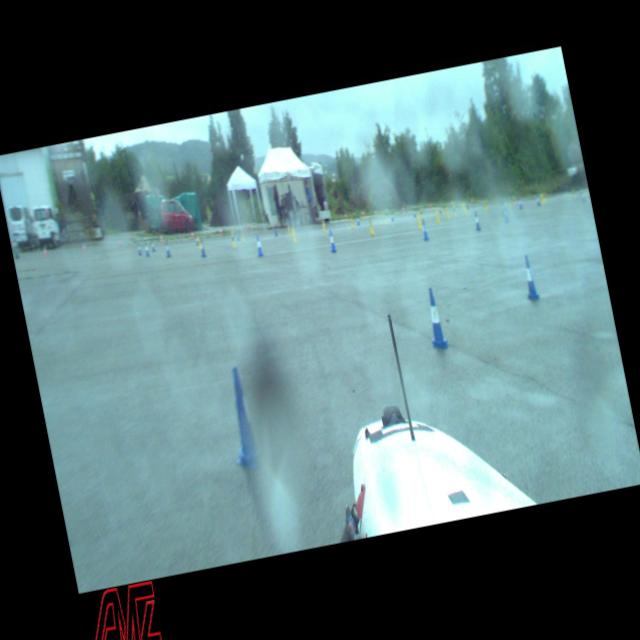Cono de seguridad: (218, 364, 267, 474), (420, 285, 450, 351), (518, 254, 542, 302), (326, 228, 338, 253), (197, 237, 208, 258), (254, 234, 264, 256), (472, 210, 482, 232), (162, 236, 172, 258), (420, 219, 430, 241), (228, 228, 238, 248), (142, 238, 151, 258), (367, 217, 375, 237), (136, 238, 144, 258), (290, 226, 298, 244), (433, 208, 441, 225), (516, 194, 524, 210), (460, 199, 468, 215), (502, 205, 509, 223), (444, 204, 451, 220), (80, 240, 88, 253), (451, 203, 458, 217), (416, 213, 422, 229), (580, 188, 586, 204), (150, 238, 156, 252), (158, 232, 165, 244), (196, 234, 202, 248), (234, 228, 240, 242), (240, 228, 246, 242), (482, 198, 488, 212), (42, 244, 48, 257), (116, 236, 122, 249), (272, 225, 278, 238), (286, 224, 292, 237), (418, 207, 424, 220), (189, 228, 195, 240), (194, 234, 200, 246), (389, 210, 395, 222), (464, 198, 470, 210), (349, 217, 355, 228), (355, 216, 361, 227), (218, 227, 224, 237), (321, 220, 326, 232), (382, 212, 386, 225), (536, 194, 540, 206), (412, 206, 416, 218), (540, 193, 544, 204), (373, 207, 378, 215), (542, 192, 546, 202), (344, 211, 348, 220), (361, 210, 365, 218), (402, 205, 406, 212)
